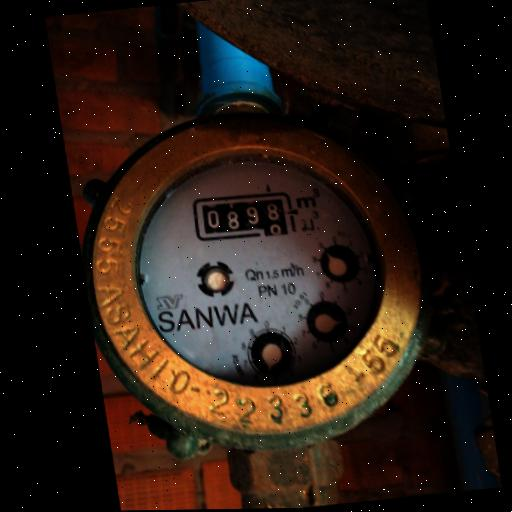0: (200, 204, 225, 234)
8: (258, 197, 287, 236), (220, 202, 244, 232)
9: (240, 200, 263, 230)
border_water_meter_number: (189, 189, 298, 244)
